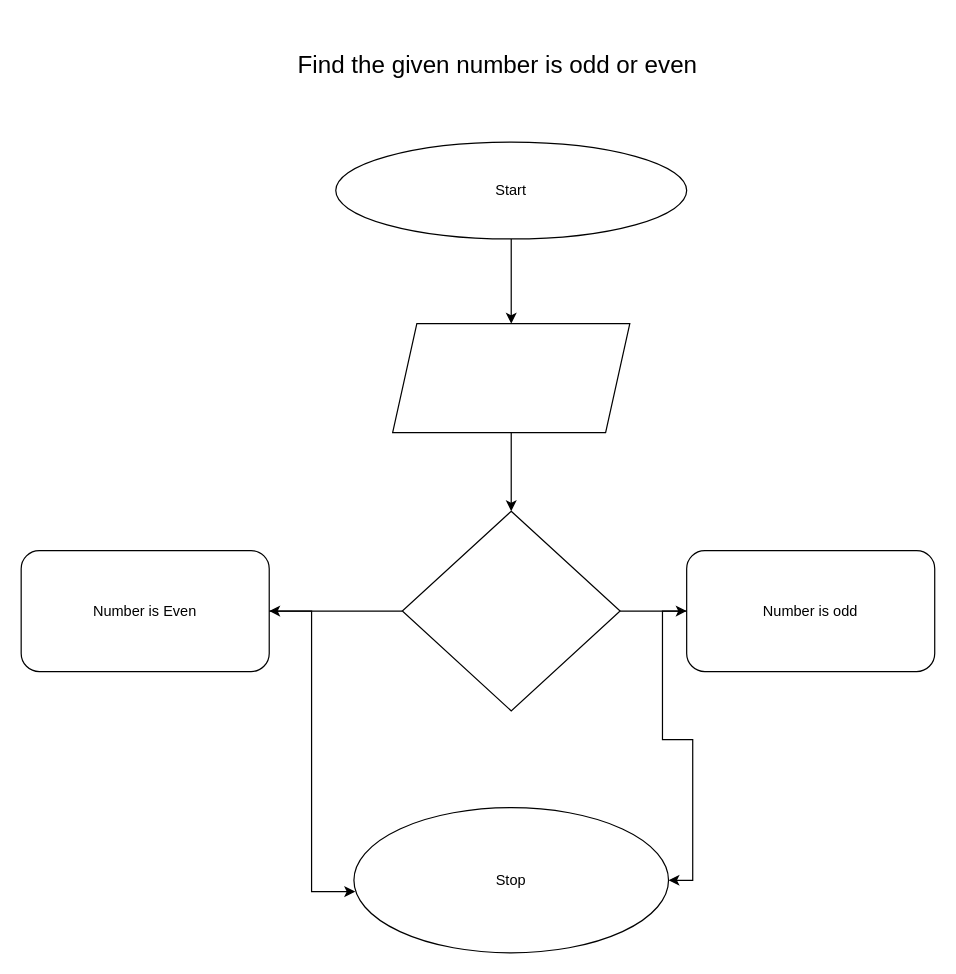
Some shapes in this 956 by 974 pixel diagram are drawn without their labels. Each missing label, with the centre of its shape:
"If number % 2==0" goes at point 510,610.
"number= user input" goes at point 510,377.
